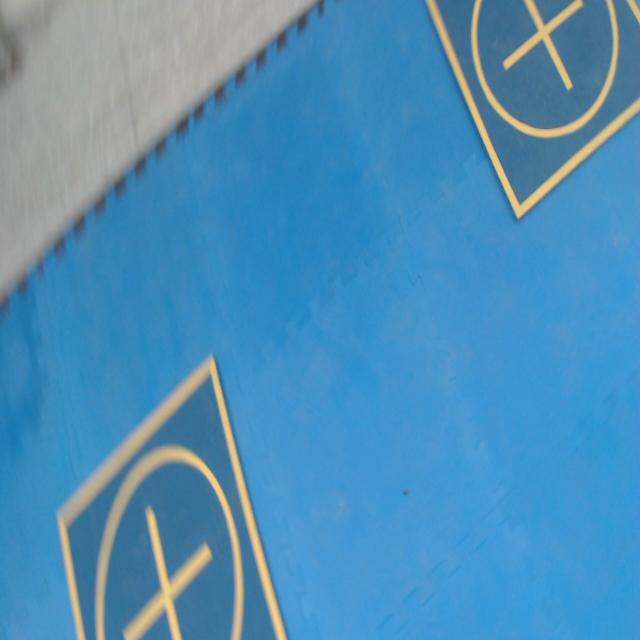base_pouso: (56, 352, 289, 639), (426, 0, 640, 225)
